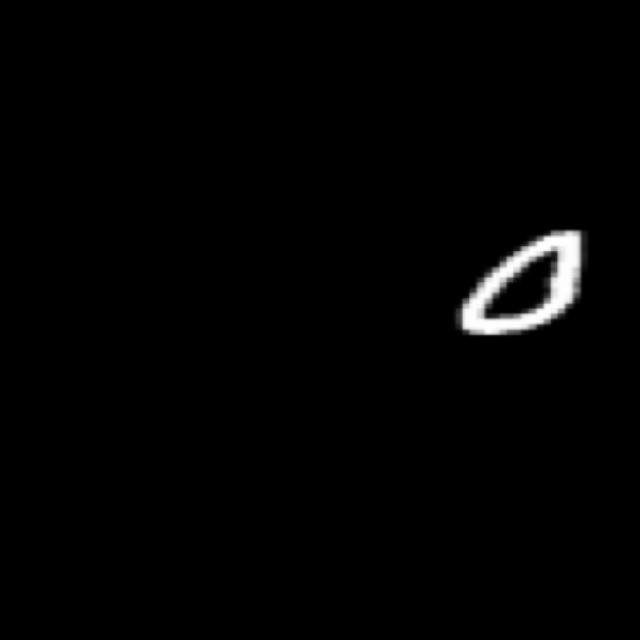zero -0-: (436, 213, 606, 359)
